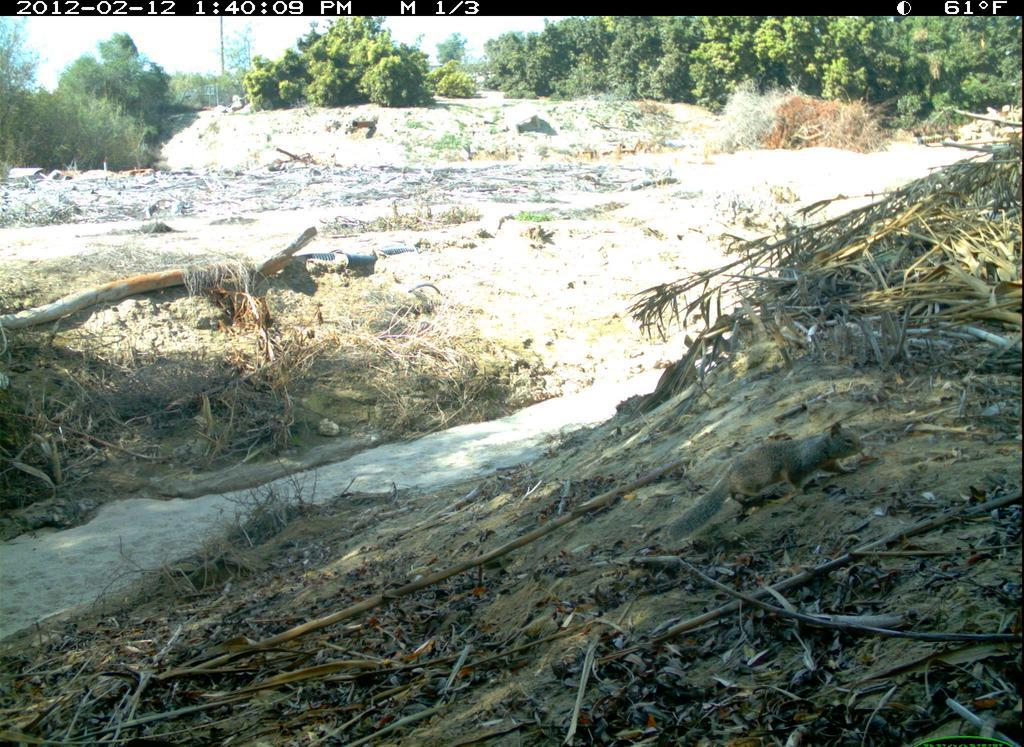squirrel: (653, 414, 875, 552)
